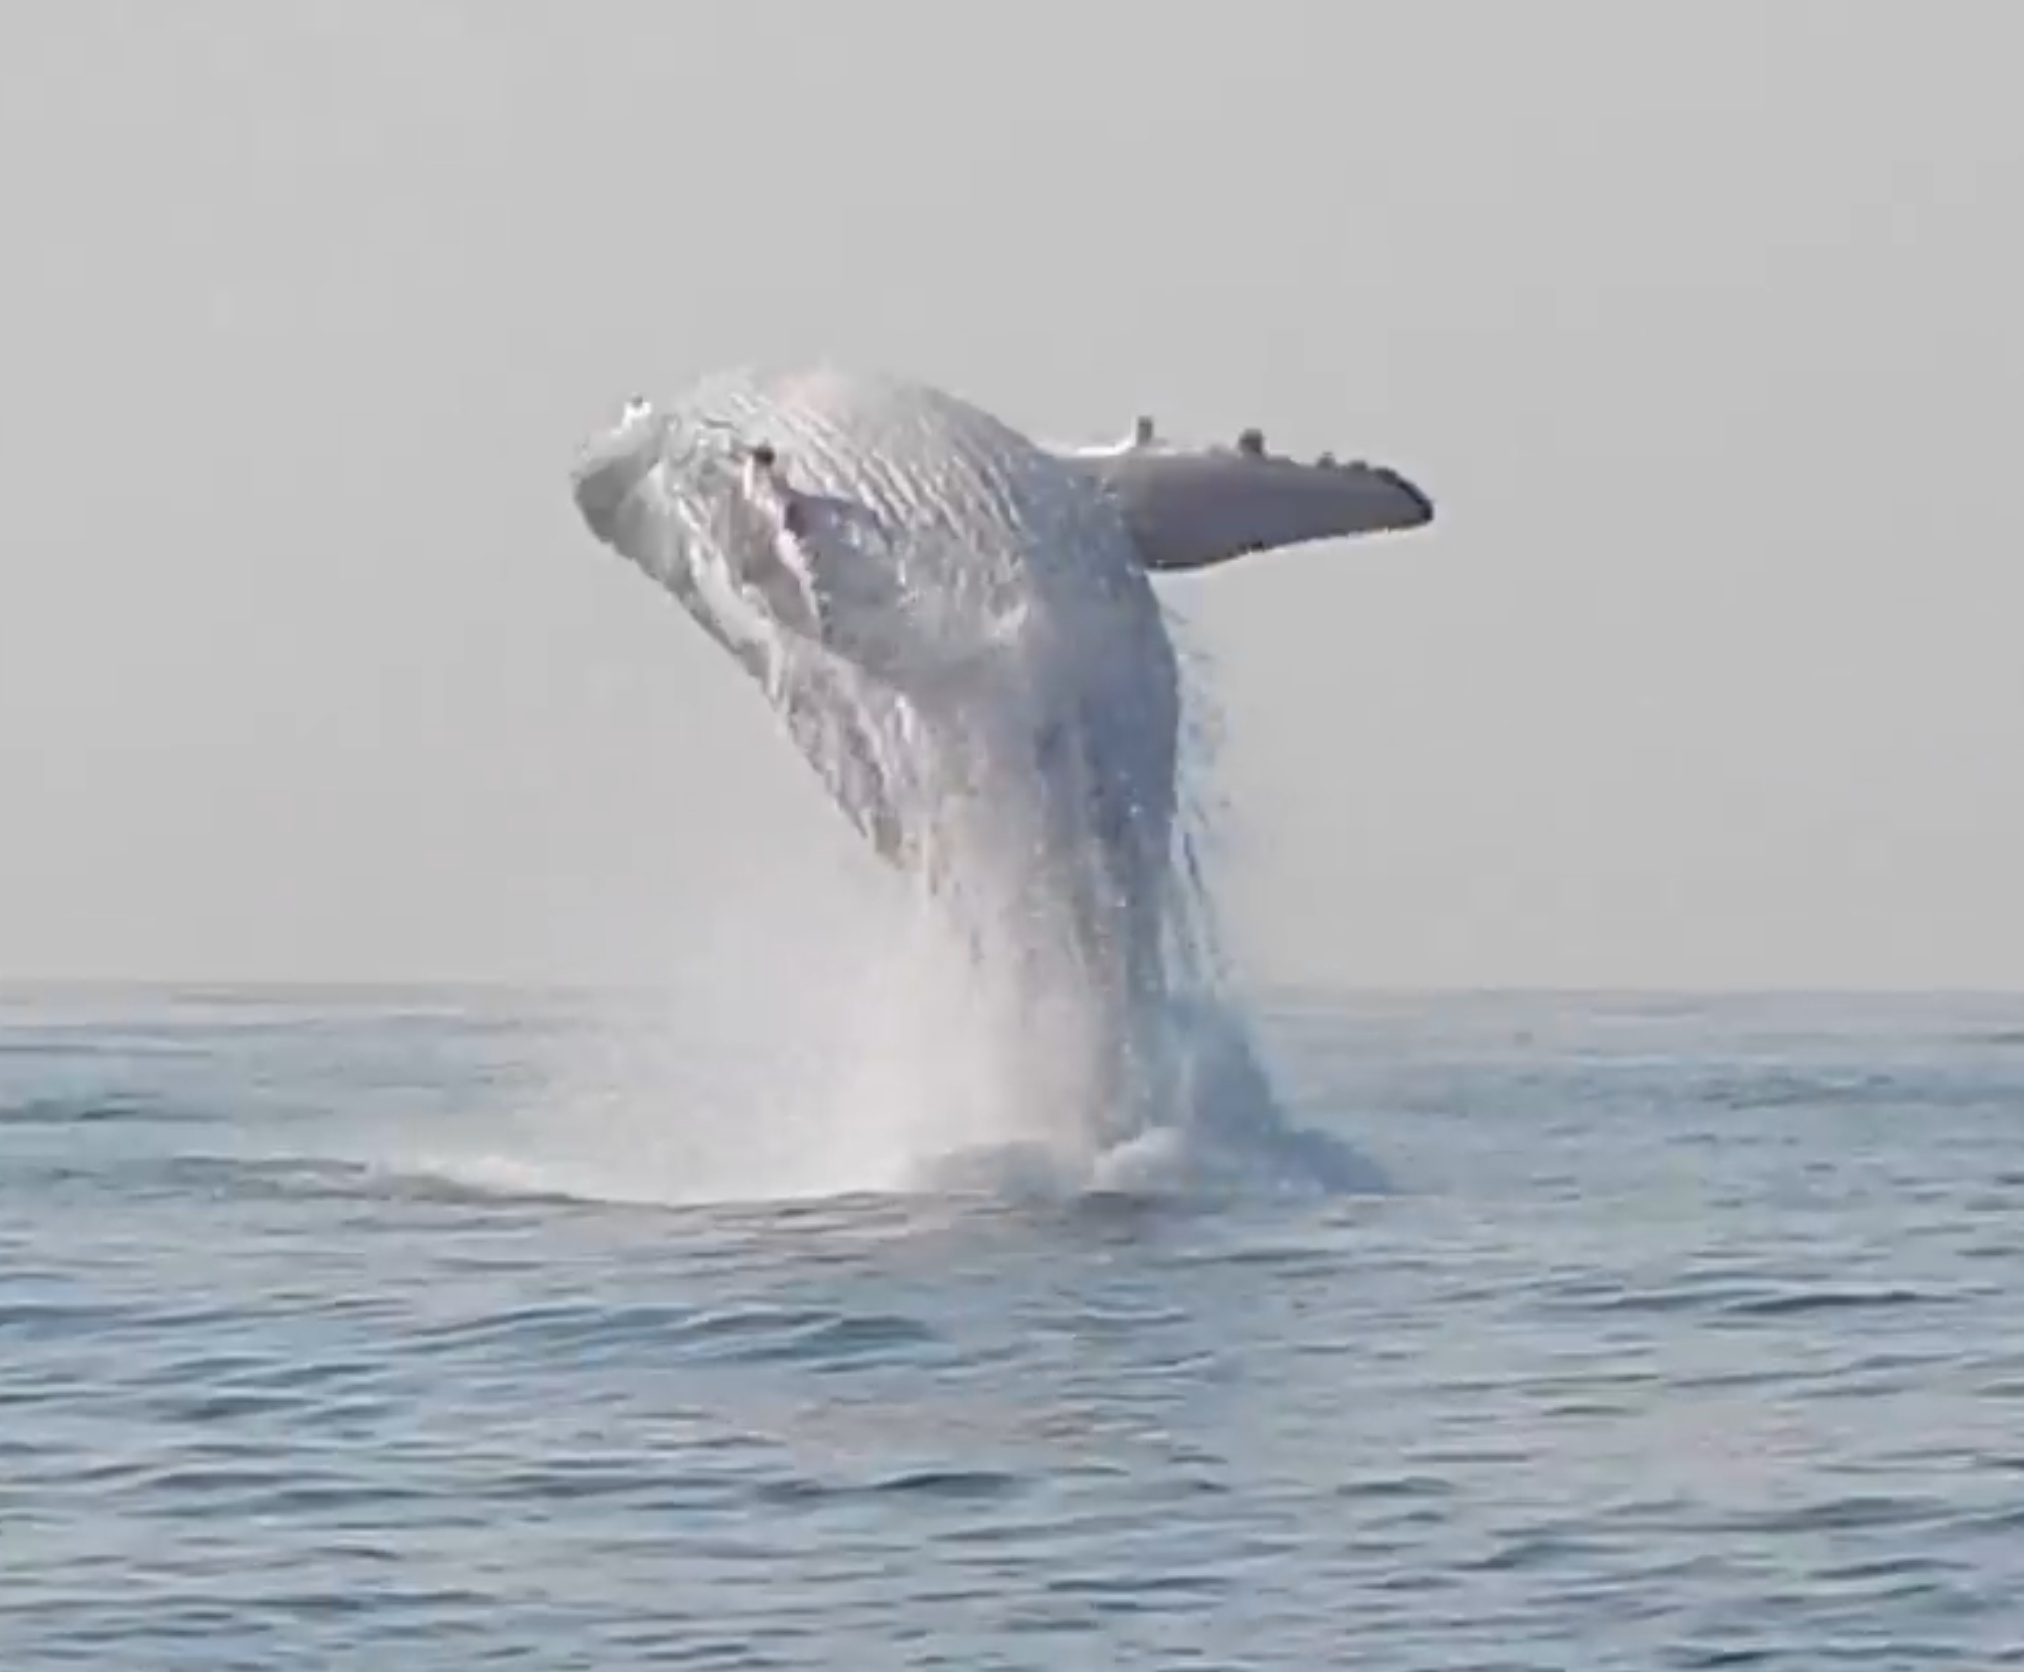humpback: (560, 370, 1256, 1191)
